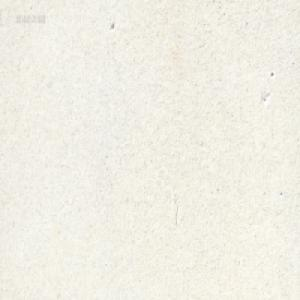Wrench: (170, 0, 177, 5)
